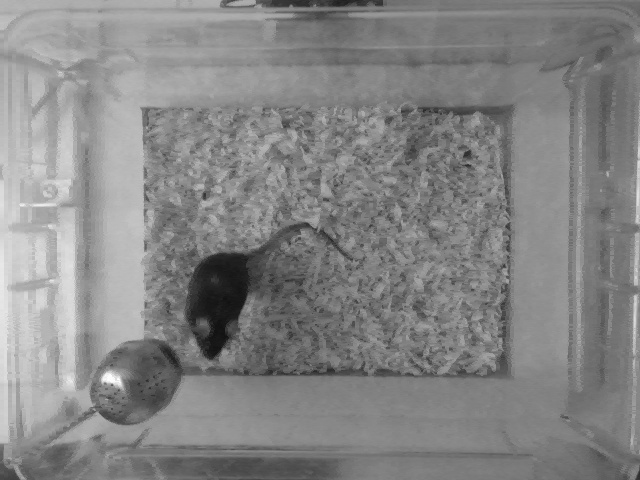mice: (183, 215, 357, 360)
